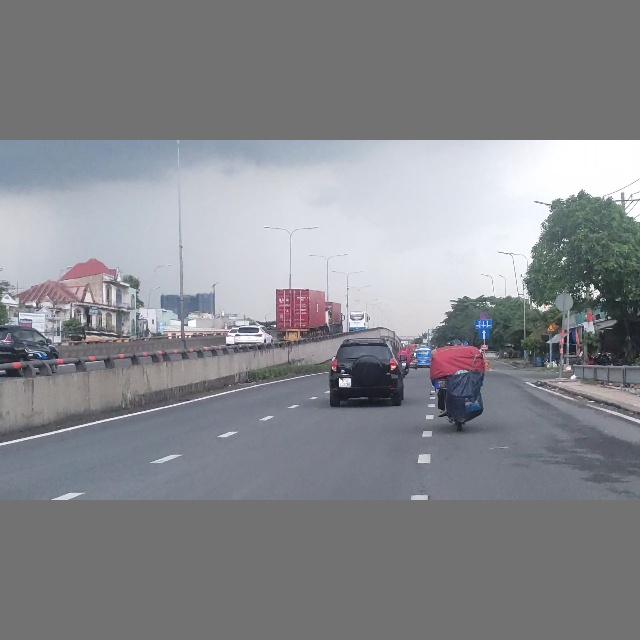I.407a: (478, 329, 490, 339)
P.130: (480, 311, 487, 319)
